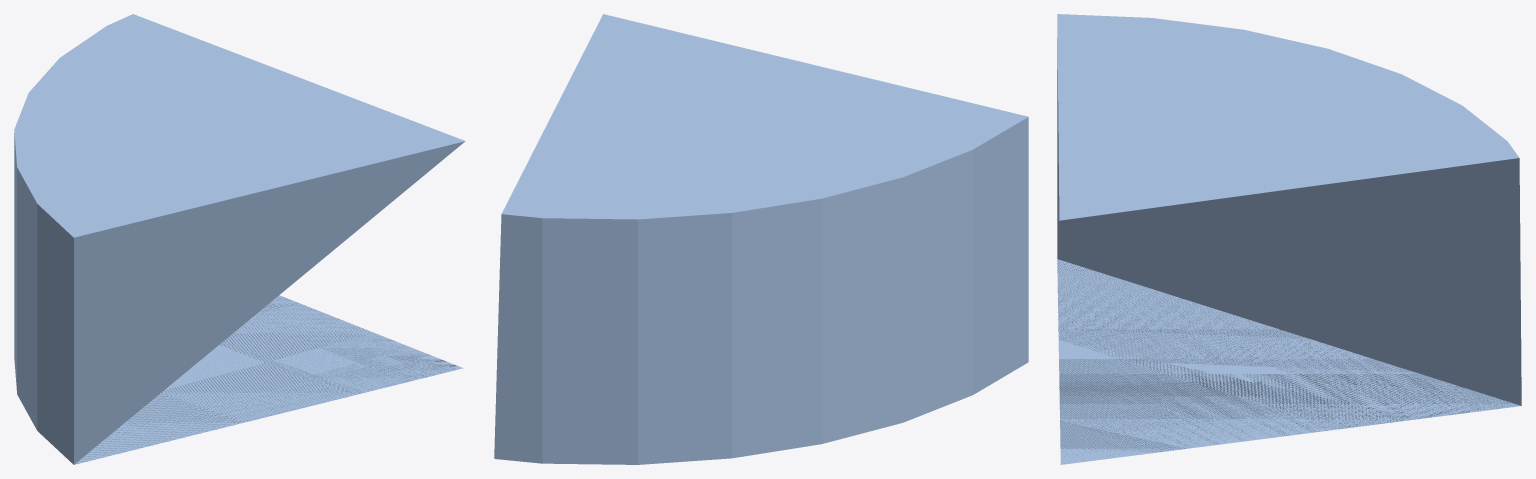
Rendered from fifth_ice_disk.fbx.
The picture shows the model from 3 angles, left to right: view 1: azimuth 30°, elevation 25°; view 2: azimuth 150°, elevation 25°; view 3: azimuth 270°, elevation 25°; orthographic projection. The views are drawn at different scales.
Parts seen in each view (by area): view 1: Cylinder; view 2: Cylinder; view 3: Cylinder.
Part boxes in pixels (bbox=[...]): Cylinder: bbox=[14, 14, 465, 464]; Cylinder: bbox=[494, 14, 1028, 464]; Cylinder: bbox=[1057, 14, 1521, 464].
Size of the model in its own units: 218 by 120 by 207.
